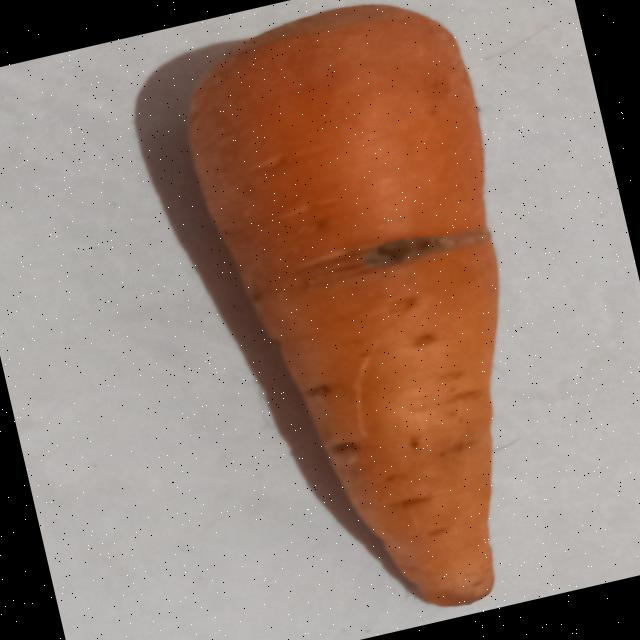carrot: (188, 4, 498, 605)
